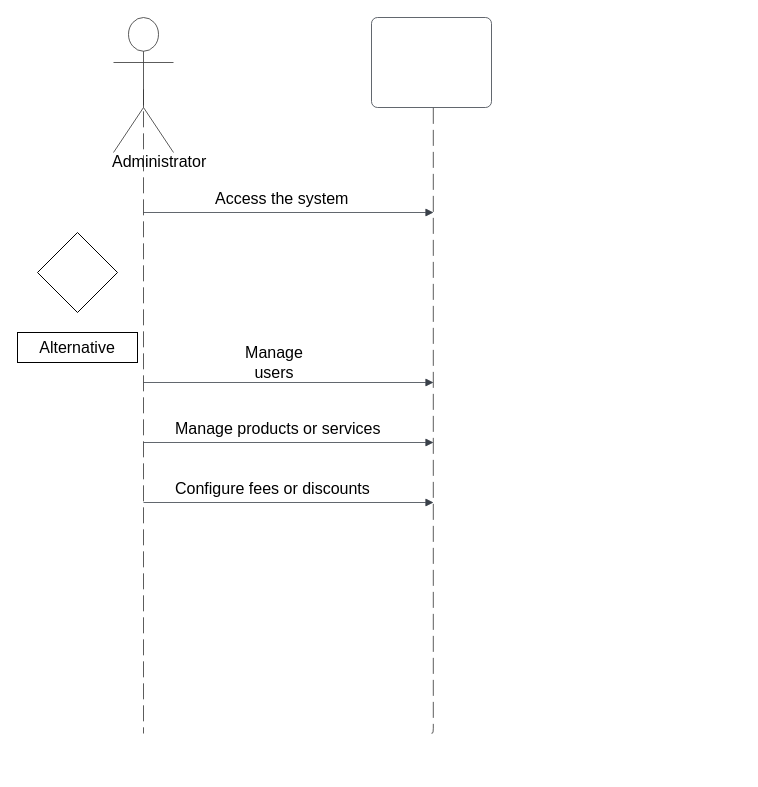
This 758x787 diagram has some shape labels left out. Each missing label, with the centre of its shape:
"Decides" goes at point (77, 272).
"System" goes at point (431, 62).
